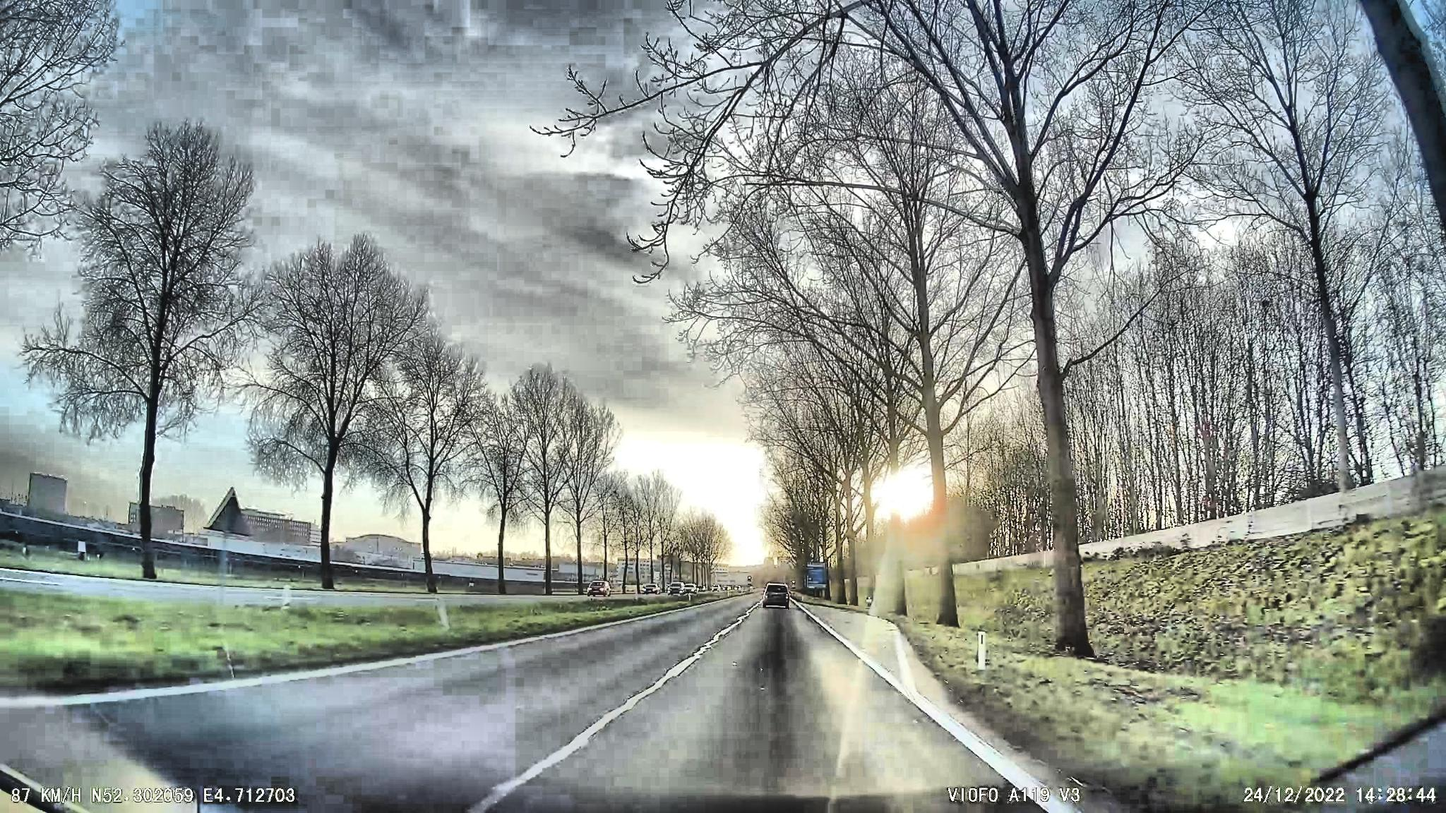Roads: (0, 602, 1100, 813)
